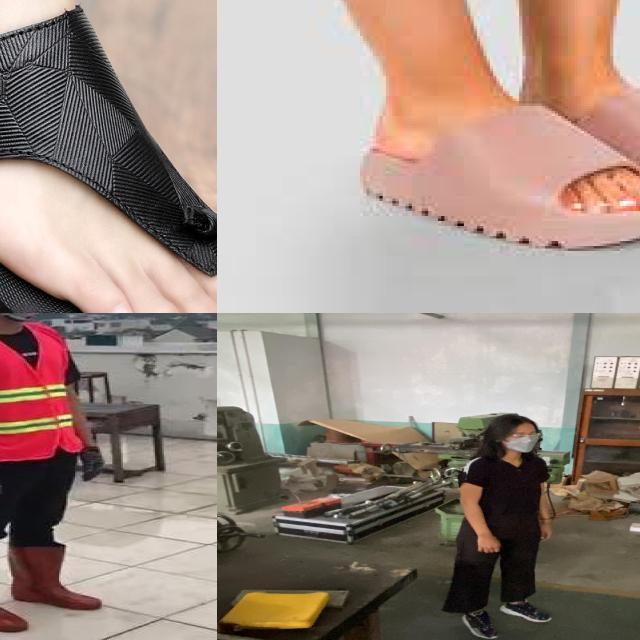Sandals: (0, 0, 217, 313), (361, 73, 640, 251)
boots: (5, 539, 120, 610), (0, 555, 28, 636)
face_mask: (504, 428, 542, 454)
glasses: (504, 432, 544, 440)
hand_glove: (75, 440, 111, 480)
hand_noglove: (472, 535, 504, 557), (534, 524, 557, 544)
head_nohelmet: (487, 412, 538, 431)
person: (0, 313, 123, 638), (446, 410, 574, 639)
shoes: (454, 606, 503, 640), (496, 599, 555, 625)
vest: (0, 322, 82, 463)
